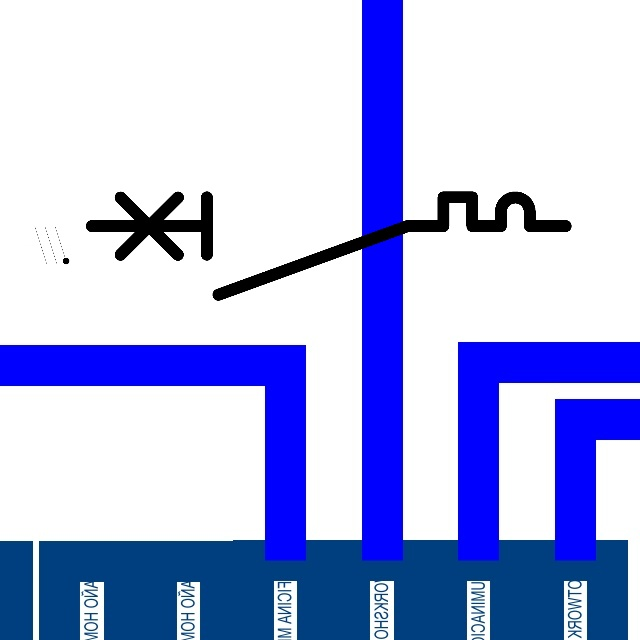interruptor_termomagnetico: (79, 185, 577, 307)
